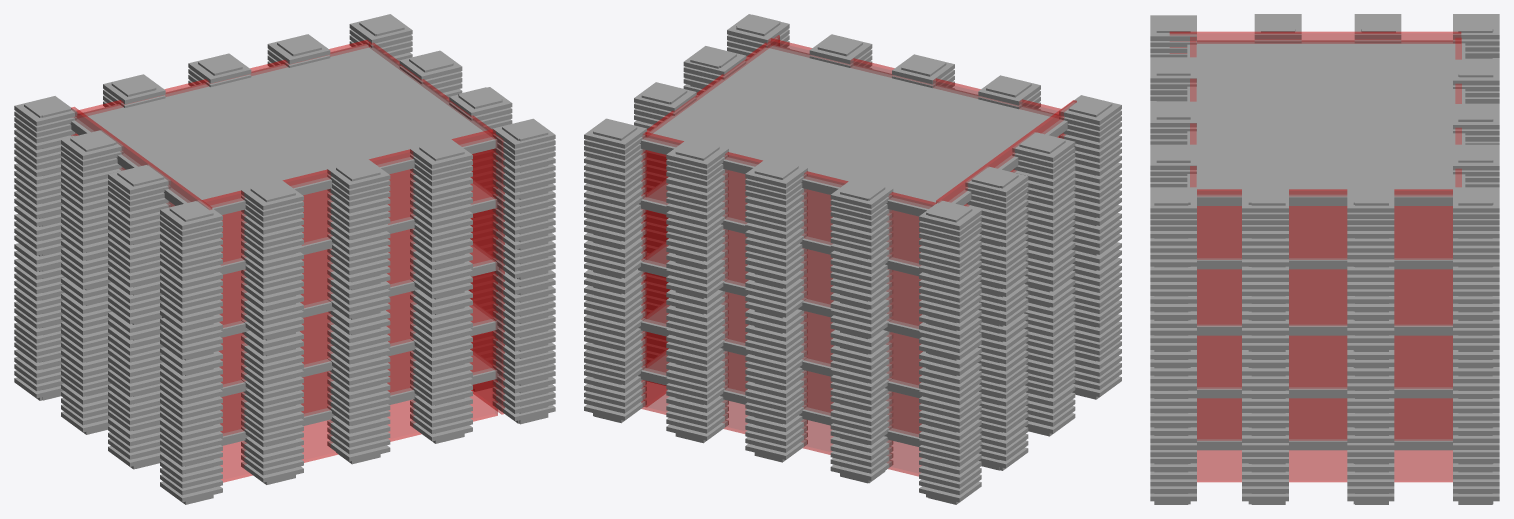
The model's file is BuildingRed.fbx.
3 renders of one model, left to right at view 1: azimuth 30°, elevation 25°; view 2: azimuth 150°, elevation 25°; view 3: azimuth 270°, elevation 25°, orthographic. The views are drawn at different scales.
Visible parts, largest first — view 1: pCube1365; view 2: pCube1365; view 3: pCube1365.
Part boxes in pixels (box(x1,y1,x2,y2)): pCube1365: box(14, 14, 555, 504); pCube1365: box(584, 14, 1121, 504); pCube1365: box(1150, 14, 1499, 504).
Size of the model in its own units: 13.49 by 9.84 by 10.25.
